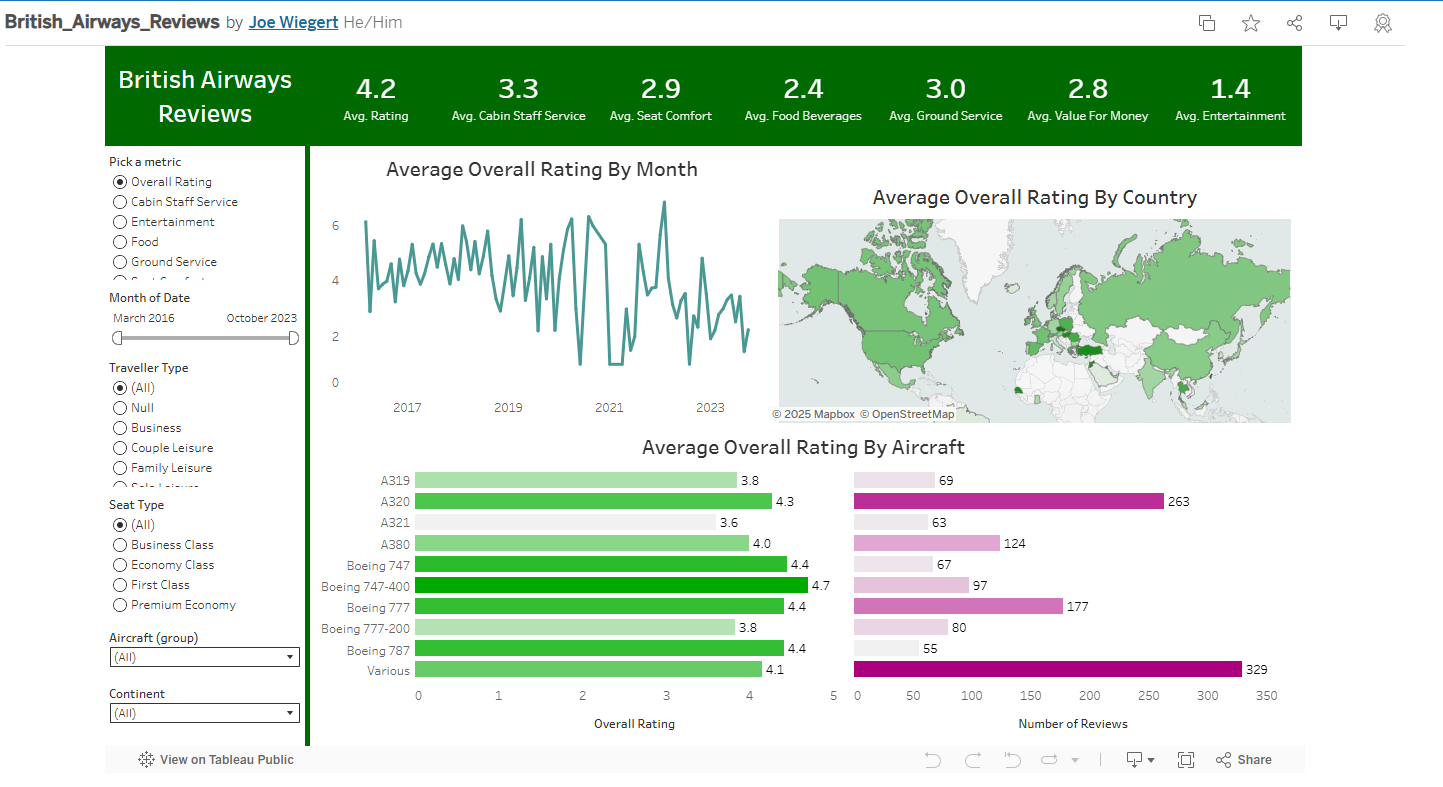

Layout of this report page (visuals, bound fields, positions):
{"tool":"tableau","page":{"name":"Dashboard 1","canvas":[1200,700],"ordinal":0},"visuals":[{"type":"text","box":[0,0,200,100]},{"type":"worksheet","title":"Summary","mark":"Automatic","box":[200,0,997,100]},{"type":"blank","box":[200,100,5,600]},{"type":"parameter","param":"[Parameters].[Parameter 1]","box":[0,102,200,144]},{"type":"worksheet","title":"Month","mark":"Automatic","rows":["Calculation_134826576157462528"],"cols":["date"],"box":[210,102,454,275]},{"type":"worksheet","title":"Map","mark":"Automatic","box":[663,102,534,275]},{"type":"filter","title":"Map","param":"[federated.1crwuch1ygbqso1g5zdrw1vtht83].[tmn:date:qk]","box":[0,246,200,69]},{"type":"filter","title":"Map","param":"[federated.1crwuch1ygbqso1g5zdrw1vtht83].[none:traveller_type:nk]","box":[0,315,200,144]},{"type":"worksheet","title":"Aircraft","mark":"Automatic","cols":["Calculation_134826576157462528","ba_reviews.csv_AF2C54233A4049A593D307C19E149E39"],"box":[210,380,977,312]},{"type":"filter","title":"Map","param":"[federated.1crwuch1ygbqso1g5zdrw1vtht83].[none:seat_type:nk]","box":[0,459,200,127]},{"type":"filter","title":"Map","param":"[federated.1crwuch1ygbqso1g5zdrw1vtht83].[Aircraft (group)]","box":[0,586,200,52]},{"type":"filter","title":"Map","param":"[federated.1crwuch1ygbqso1g5zdrw1vtht83].[none:Continent:nk]","box":[0,638,200,52]}]}

Visuals, with their boxes on the page's 1200x700 design canvas (x1, y1, x2, y2). These are canvas units, not pixel positions in the 1443x787 screenshot, which may show the page scaled, cropped or inside an application window:
text: (left=0, top=0, right=200, bottom=100)
"Summary" worksheet: (left=200, top=0, right=1197, bottom=100)
blank: (left=200, top=100, right=205, bottom=700)
parameter: (left=0, top=102, right=200, bottom=246)
"Month" worksheet: (left=210, top=102, right=664, bottom=377)
"Map" worksheet: (left=663, top=102, right=1197, bottom=377)
"Map" filter: (left=0, top=246, right=200, bottom=315)
"Map" filter: (left=0, top=315, right=200, bottom=459)
"Aircraft" worksheet: (left=210, top=380, right=1187, bottom=692)
"Map" filter: (left=0, top=459, right=200, bottom=586)
"Map" filter: (left=0, top=586, right=200, bottom=638)
"Map" filter: (left=0, top=638, right=200, bottom=690)
